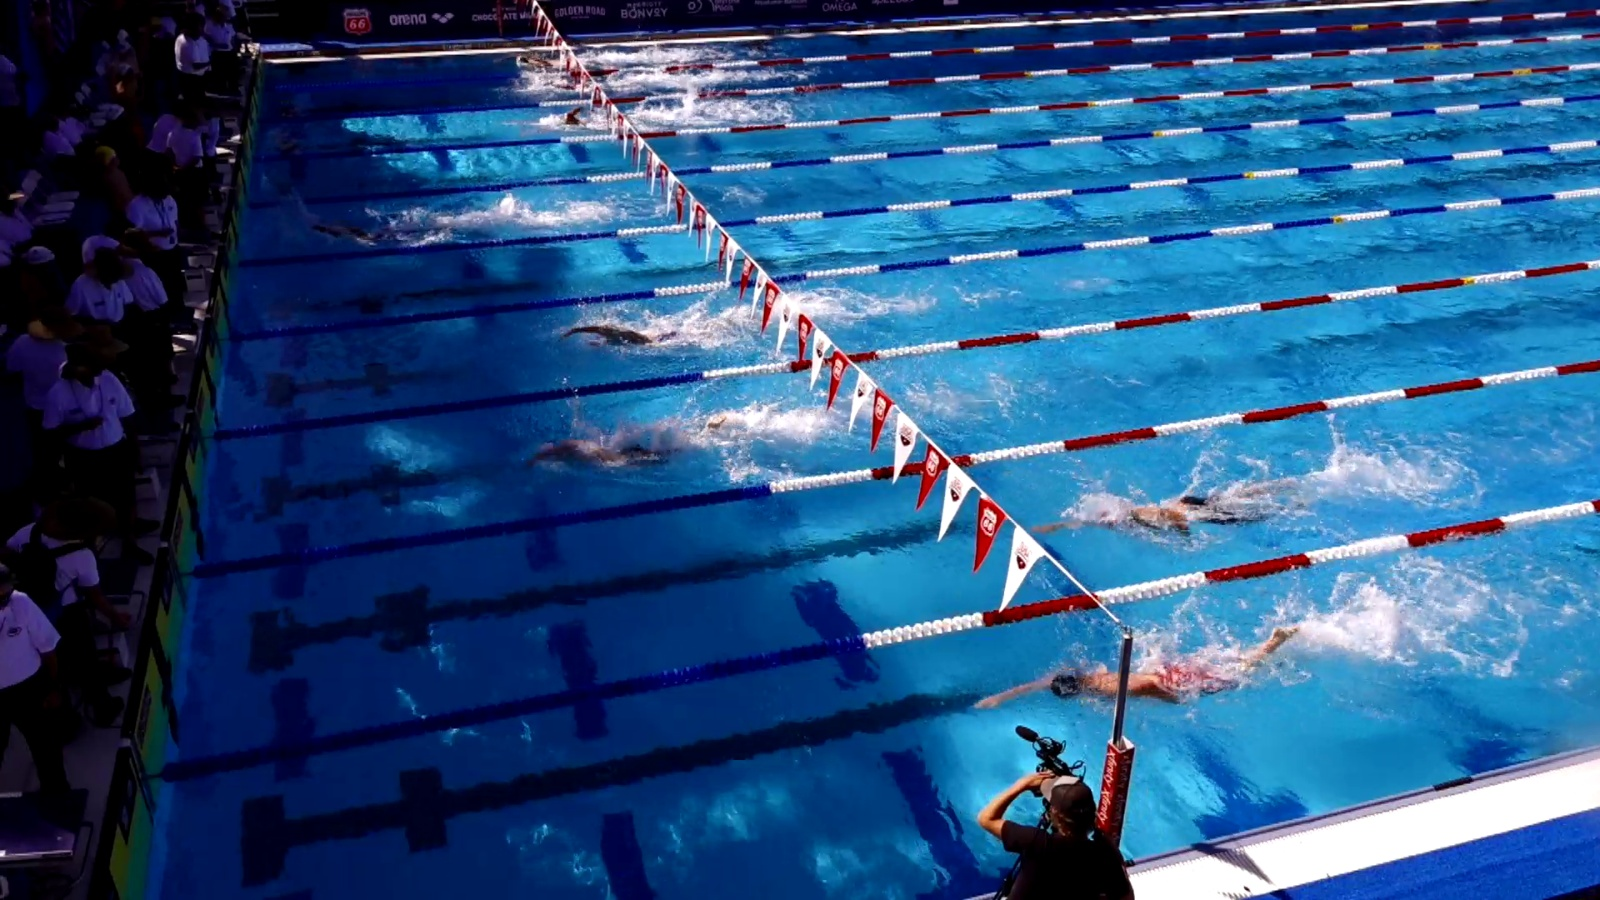swimmerw: (968, 627, 1308, 718), (1021, 475, 1302, 541), (526, 421, 738, 474), (562, 312, 754, 357), (338, 208, 487, 248), (559, 104, 621, 131), (545, 76, 609, 93), (514, 51, 567, 71)
